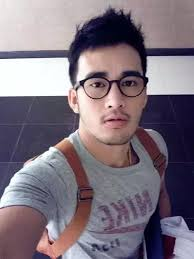asian_male: (63, 23, 153, 150)
